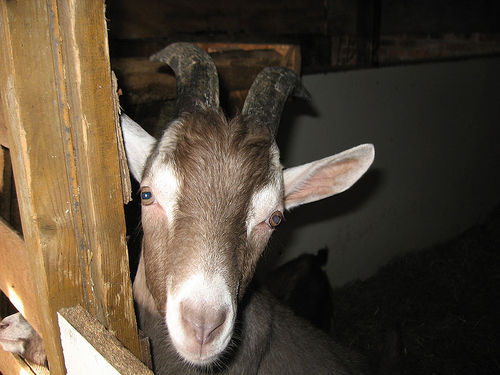goat: (116, 42, 373, 375)
